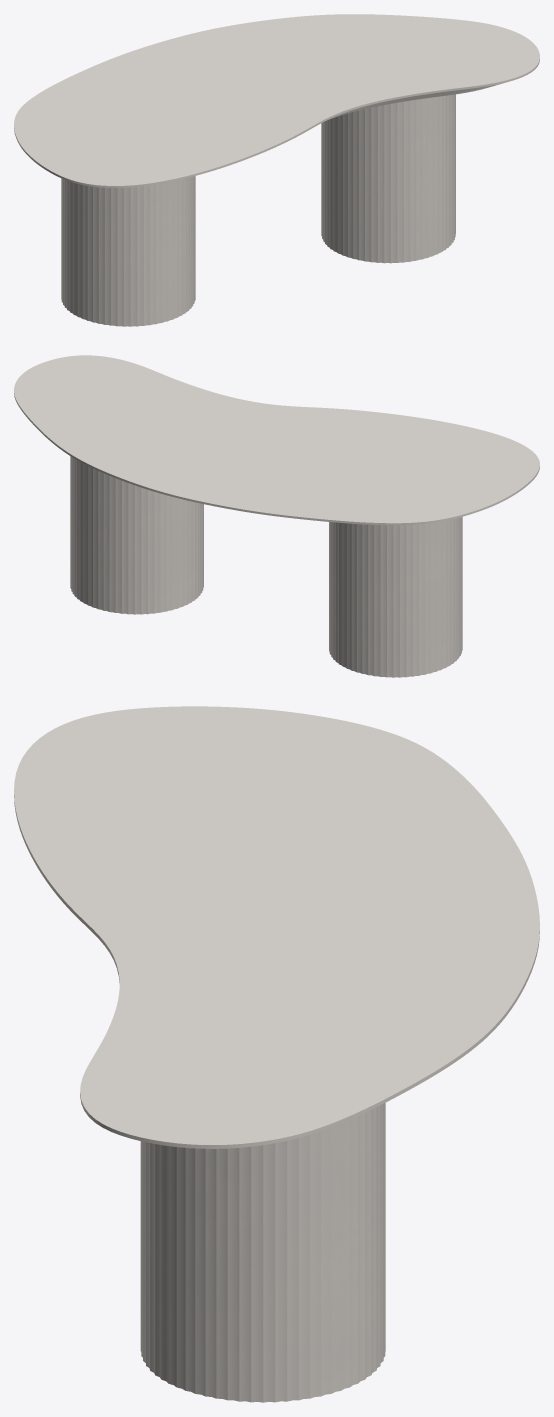
File: pearlwhite_leaf1_facet_ripplesecond.glb
3 views of the same model, one above another, from view 1: azimuth 30°, elevation 25°; view 2: azimuth 150°, elevation 25°; view 3: azimuth 270°, elevation 25° (orthographic). The views are drawn at different scales.
Parts seen in each view (by area): view 1: facet_leaf1, ripplesecond; view 2: facet_leaf1, ripplesecond; view 3: facet_leaf1, ripplesecond.
Boxes of the visible parts, bbox=[...] form: facet_leaf1: bbox=[14, 14, 539, 187]; ripplesecond: bbox=[61, 94, 455, 326]; facet_leaf1: bbox=[14, 355, 539, 525]; ripplesecond: bbox=[70, 456, 462, 677]; facet_leaf1: bbox=[14, 706, 539, 1148]; ripplesecond: bbox=[140, 1103, 385, 1402].
Size of the model in its own units: 7.5 by 2.53 by 3.8.
Materials: 1 (1 with a texture image).
